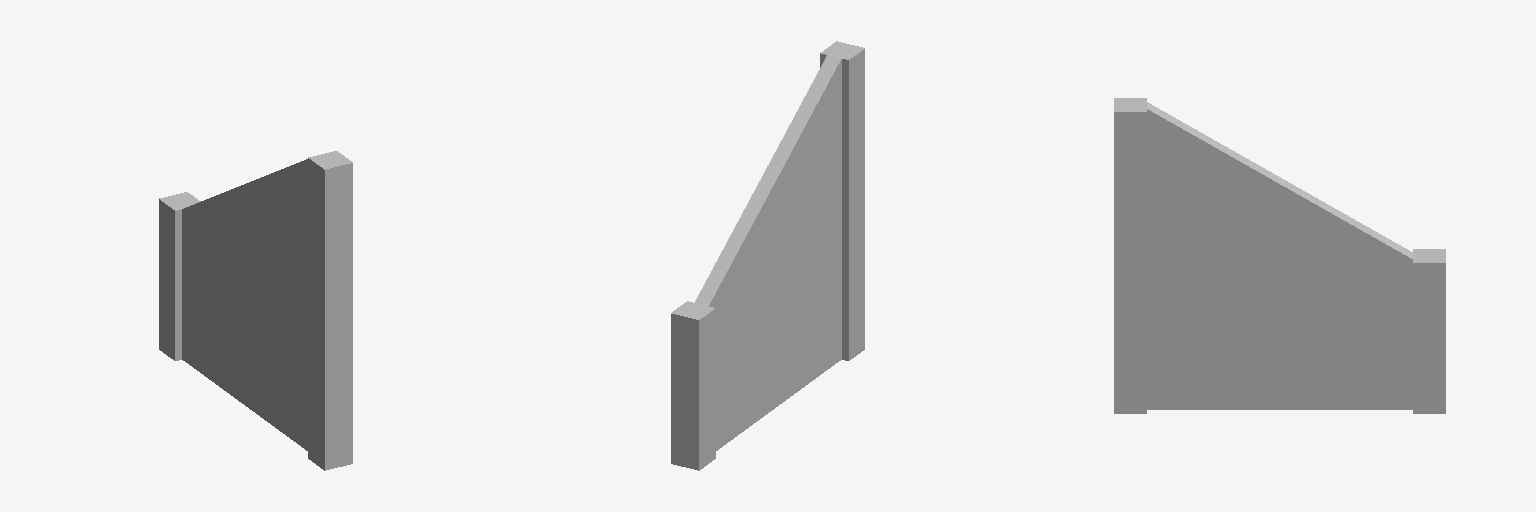
File: wall-slope.obj
The picture shows the model from 3 angles: view 1: azimuth 30°, elevation 25°; view 2: azimuth 150°, elevation 25°; view 3: azimuth 270°, elevation 25°; orthographic projection.
Parts seen in each view (by area): view 1: wall-slope; view 2: wall-slope; view 3: wall-slope.
Part boxes in pixels (x1,y1,x2,y2): wall-slope: (159,151,352,470); wall-slope: (671,41,864,470); wall-slope: (1114,98,1445,413).
Bounding box in the file's own units: 0.1 × 1 × 1.